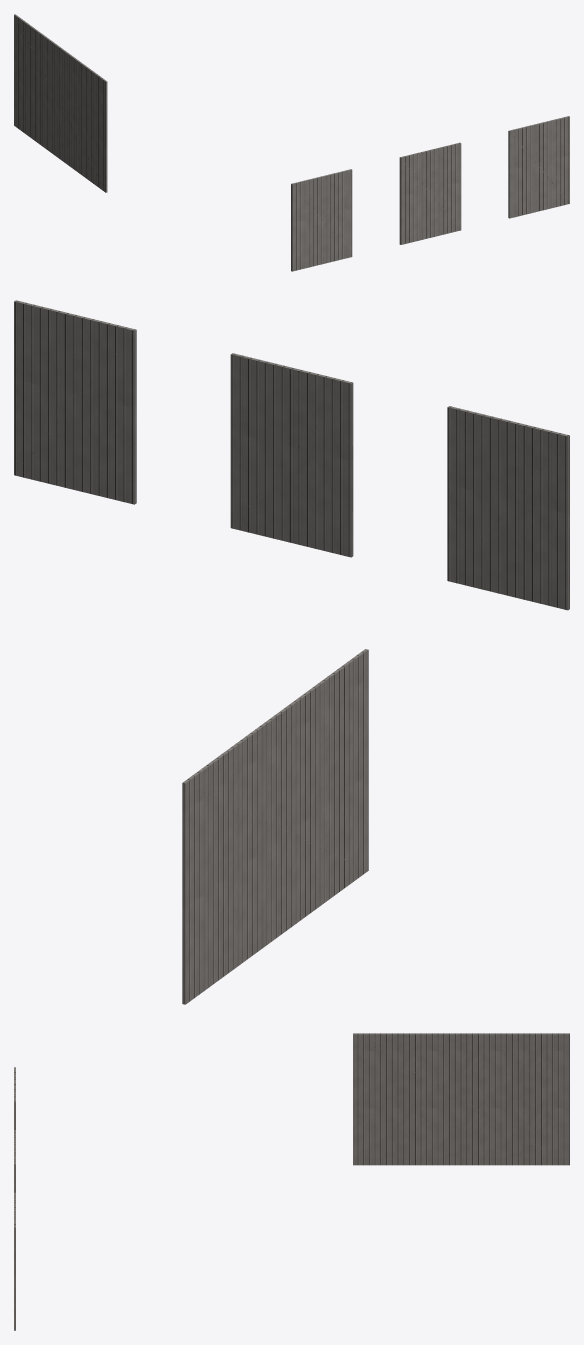
File: ADSK_56.obj
3 renders of one model, top to bottom at view 1: azimuth 30°, elevation 25°; view 2: azimuth 150°, elevation 25°; view 3: azimuth 270°, elevation 25°, orthographic. The views are drawn at different scales.
Bounding box in the file's own units: 2.12 × 0.7 × 2.69.
Materials: 1 (1 with a texture image).
